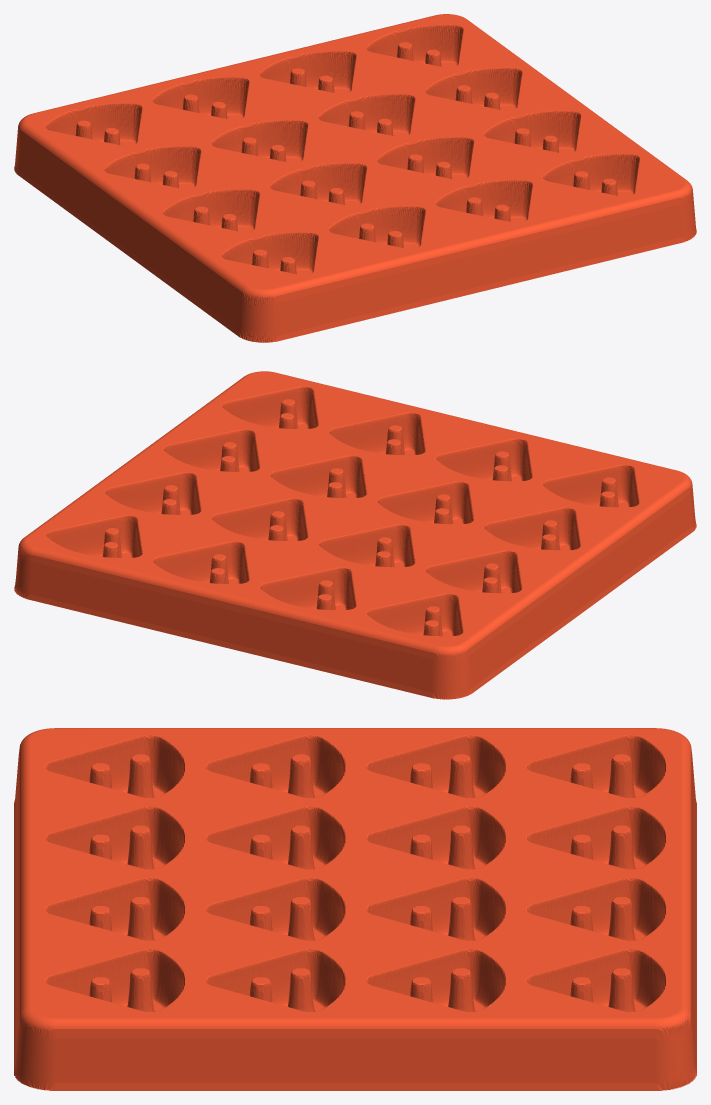
Rendered from mold.glb.
3 views of the same model, one above another, from view 1: azimuth 30°, elevation 25°; view 2: azimuth 150°, elevation 25°; view 3: azimuth 270°, elevation 25° (orthographic). The views are drawn at different scales.
Visible parts, largest first — view 1: geometry_0; view 2: geometry_0; view 3: geometry_0.
Part boxes in pixels (bbox=[...]): geometry_0: bbox=[14, 14, 696, 342]; geometry_0: bbox=[14, 371, 696, 699]; geometry_0: bbox=[14, 728, 696, 1090].
Bounding box in the file's own units: 0.1569 × 0.0159 × 0.1496.
